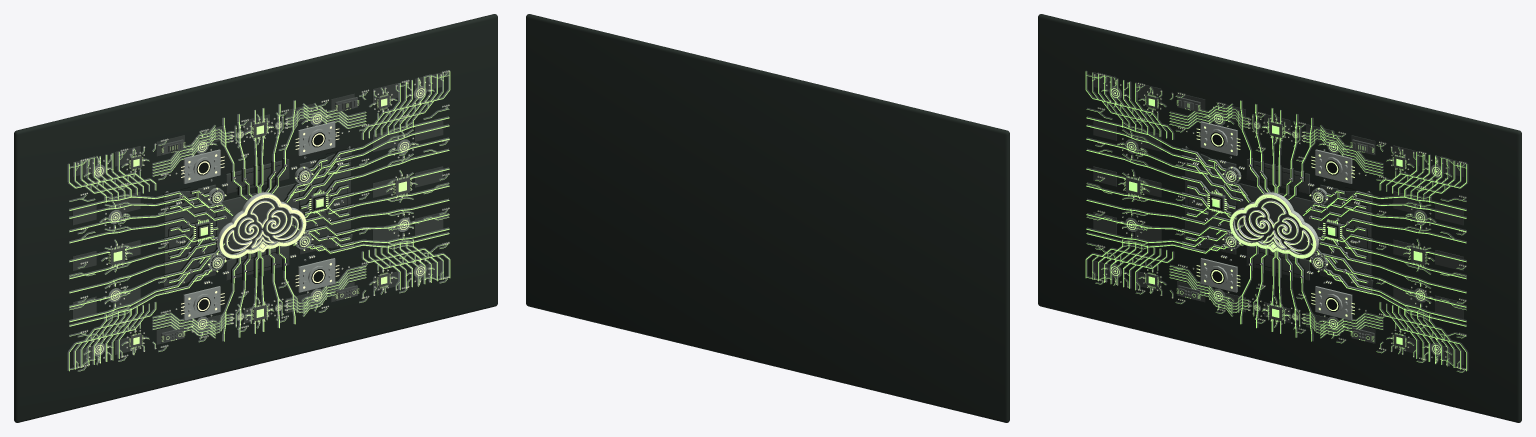
File: mainframe.glb
3 renders of one model, left to right at view 1: azimuth 30°, elevation 25°; view 2: azimuth 150°, elevation 25°; view 3: azimuth 330°, elevation 25°, orthographic.
Parts seen in each view (by area): view 1: board, circuitHousings, plates, circuitCores, recesses, hardware, radarHardware, chipHardware, logoHousing, logoCore, chipCores, indicatorCores (+1 smaller); view 2: board; view 3: board, circuitHousings, plates, circuitCores, recesses, hardware, radarHardware, chipHardware, logoHousing, logoCore, chipCores, indicatorCores (+1 smaller).
Boxes of the visible parts, x1=… form: board: x1=14, y1=14, x2=497, y2=422; circuitHousings: x1=67, y1=71, x2=449, y2=371; plates: x1=72, y1=72, x2=443, y2=365; circuitCores: x1=69, y1=71, x2=450, y2=371; recesses: x1=163, y1=132, x2=354, y2=311; hardware: x1=77, y1=70, x2=449, y2=367; radarHardware: x1=92, y1=86, x2=426, y2=356; chipHardware: x1=109, y1=94, x2=409, y2=347; logoHousing: x1=217, y1=192, x2=306, y2=258; logoCore: x1=219, y1=194, x2=306, y2=258; chipCores: x1=108, y1=94, x2=411, y2=348; indicatorCores: x1=78, y1=71, x2=449, y2=367; board: x1=526, y1=14, x2=1009, y2=422; board: x1=1038, y1=14, x2=1521, y2=422; circuitHousings: x1=1086, y1=70, x2=1468, y2=372; plates: x1=1093, y1=72, x2=1463, y2=365; circuitCores: x1=1085, y1=71, x2=1466, y2=372; recesses: x1=1181, y1=132, x2=1372, y2=311; hardware: x1=1094, y1=72, x2=1466, y2=369; radarHardware: x1=1109, y1=86, x2=1443, y2=356; chipHardware: x1=1126, y1=94, x2=1426, y2=347; logoHousing: x1=1229, y1=192, x2=1318, y2=258; logoCore: x1=1229, y1=194, x2=1316, y2=258; chipCores: x1=1124, y1=94, x2=1427, y2=348; indicatorCores: x1=1094, y1=74, x2=1465, y2=369.
Bounding box in the file's own units: 32.55 × 18.8 × 1.02.
